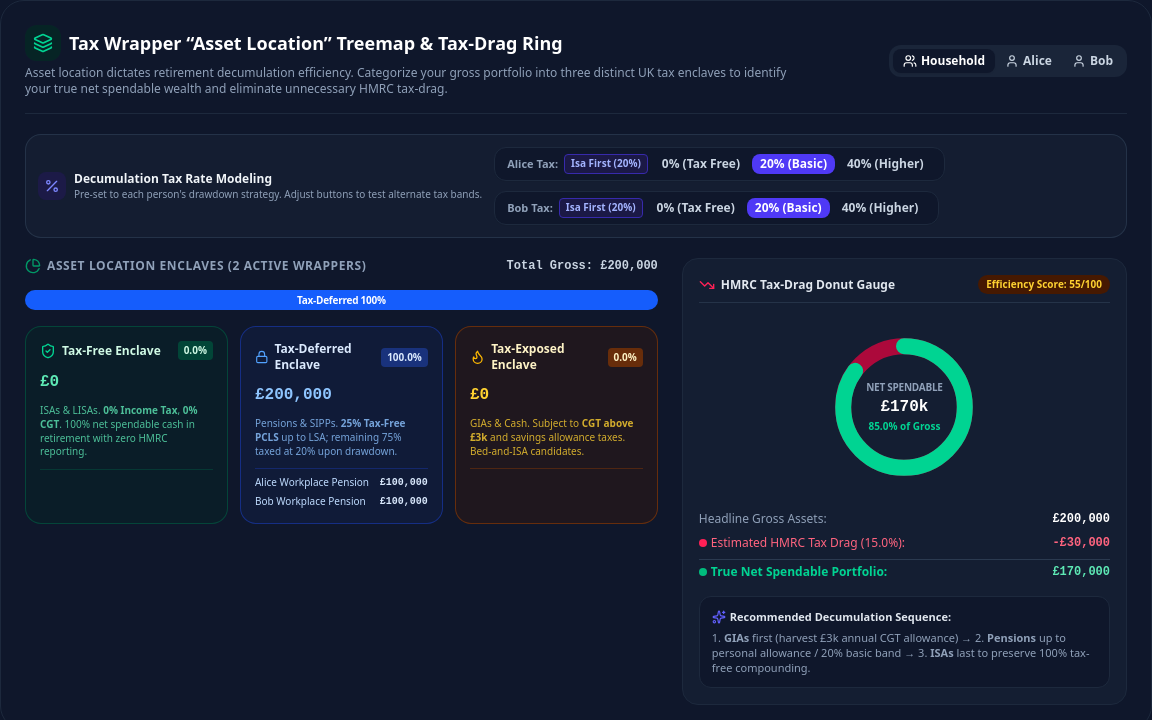
Test case: AssetLocationTaxDragCard › renders couple mode with separate per-person decumulation tax rate controls
This screenshot has width=1152, height=720.
expect the text "Alice Tax:" is shown: met, box 507,157 -> 558,171
expect the text "Bob Tax:" is shown: met, box 507,201 -> 553,215
# Set Alice to 0% (Tax Free), keep Bob at 20% (Basic)
Click the button "0% (Tax Free)" in the row of "Alice Tax:" at (701, 164), box 654,154 -> 748,174
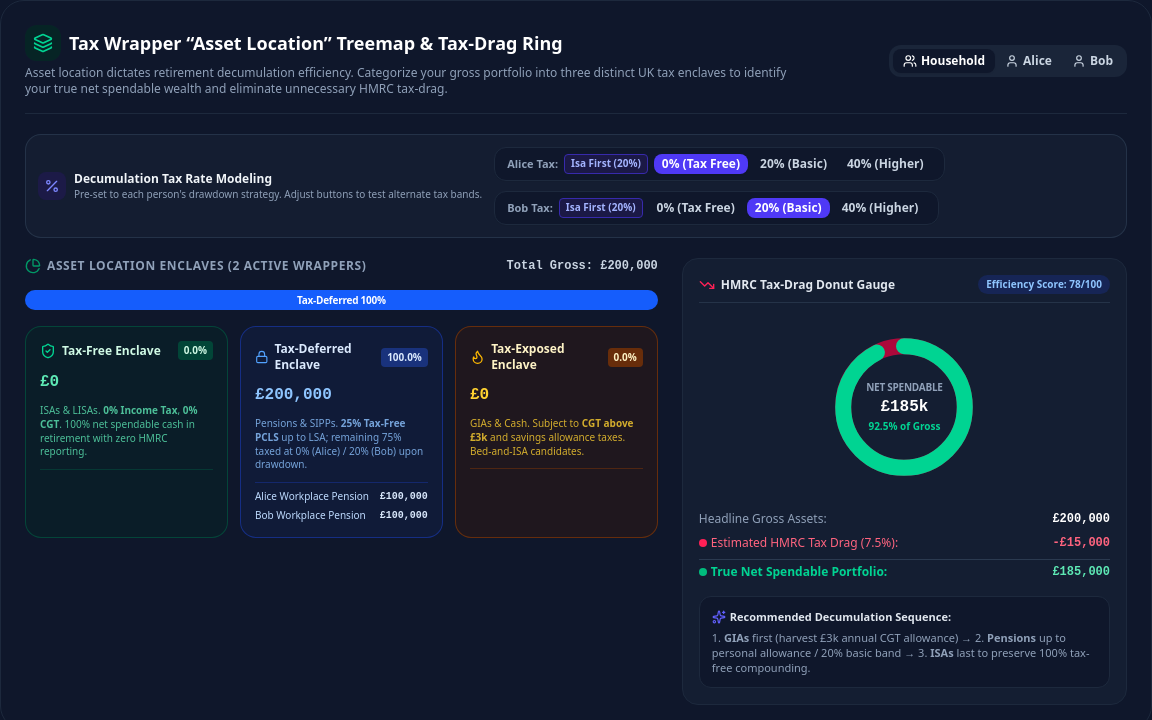
expect the text "-£15,000" is shown: met, box 1052,535 -> 1110,551
# Set Bob to 40% (Higher)
Click the 2nd button "40% (Higher)" at (880, 208), box 834,198 -> 926,218
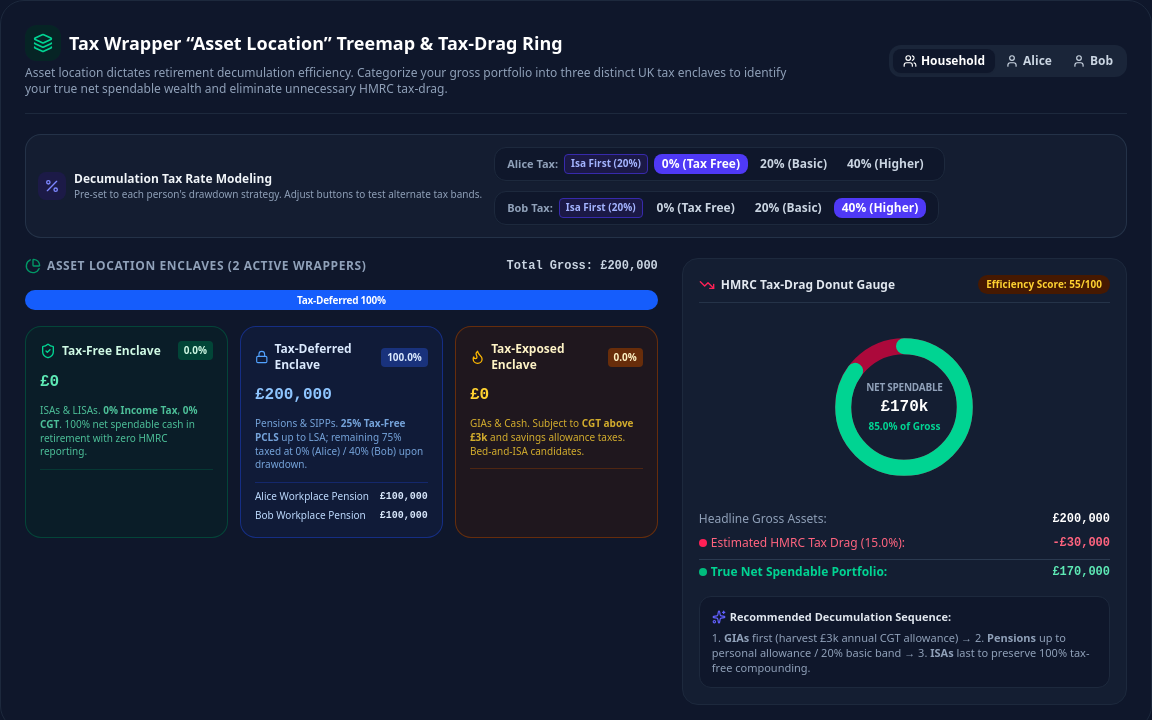
expect the text "-£30,000" is shown: met, box 1052,535 -> 1110,551
# Filter to Alice only
Click the button "Alice" at (1028, 61), box 995,49 -> 1062,73
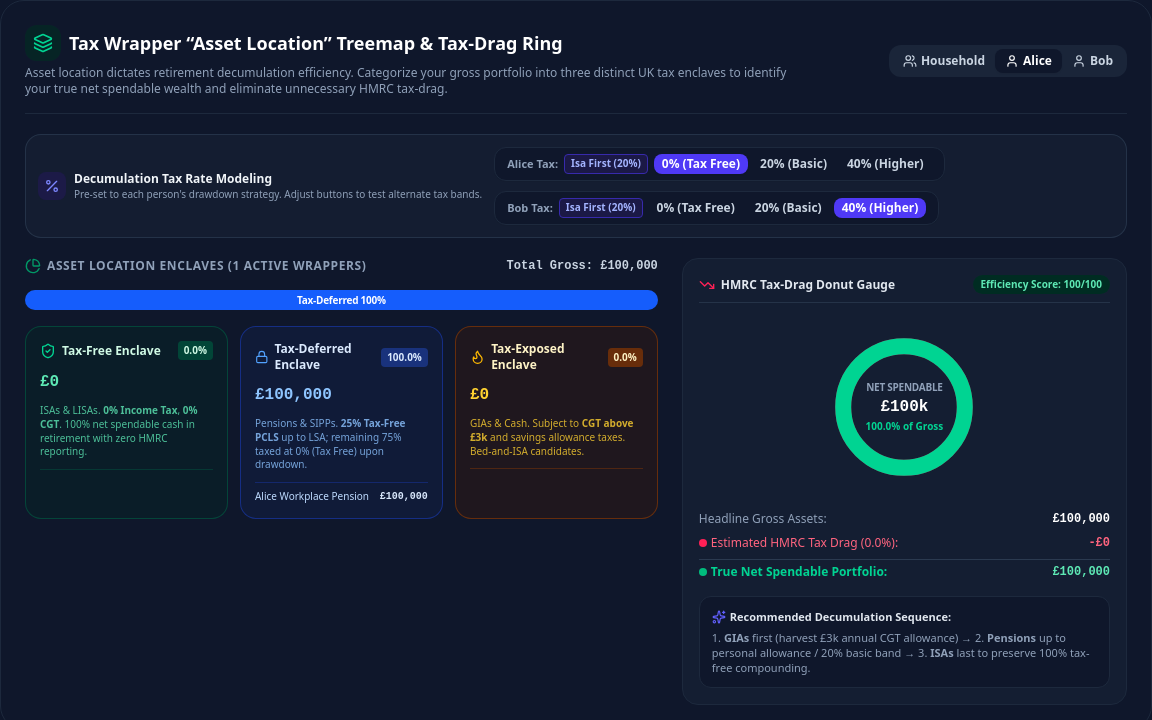
expect the text "-£0" is shown: met, box 1088,535 -> 1110,551
# Filter to Bob only
Click the button "Bob" at (1092, 61), box 1062,49 -> 1123,73
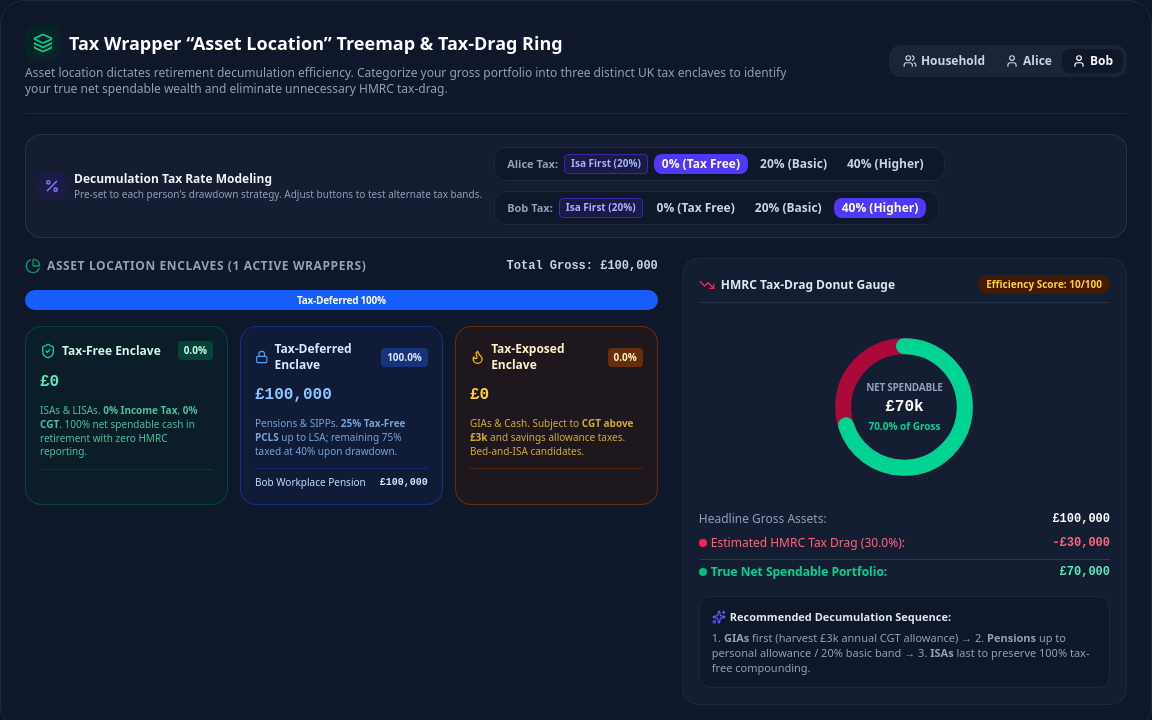
expect the text "-£30,000" is shown: met, box 1052,535 -> 1110,551
